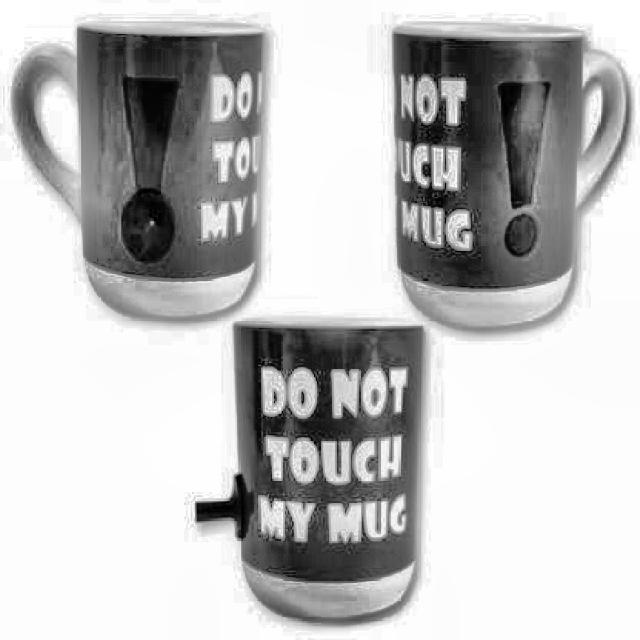Mug: (8, 12, 260, 322), (389, 16, 629, 335), (230, 315, 432, 622)
